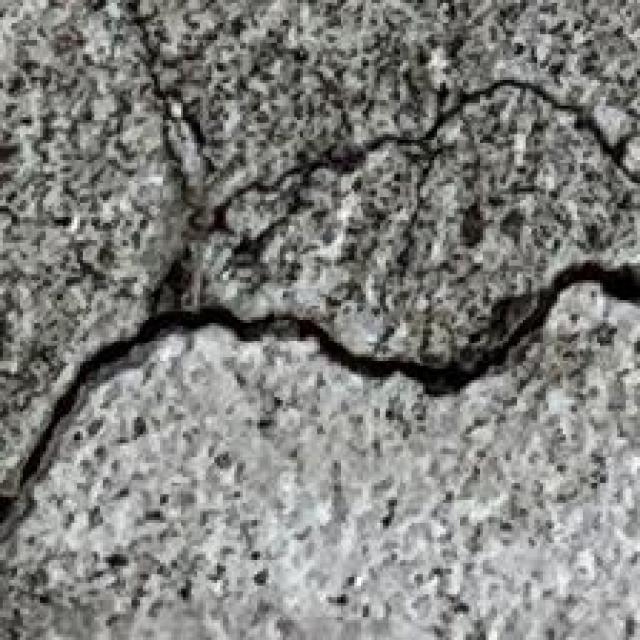Crack: (3, 0, 640, 594)
